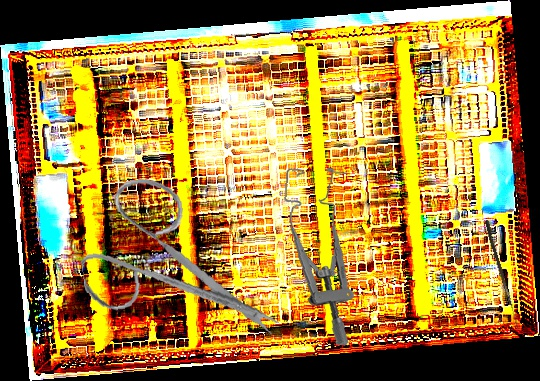Hook Surgical: (482, 219, 524, 331)
Iris Scissors: (70, 162, 282, 362)
Speculum: (273, 165, 363, 346)
